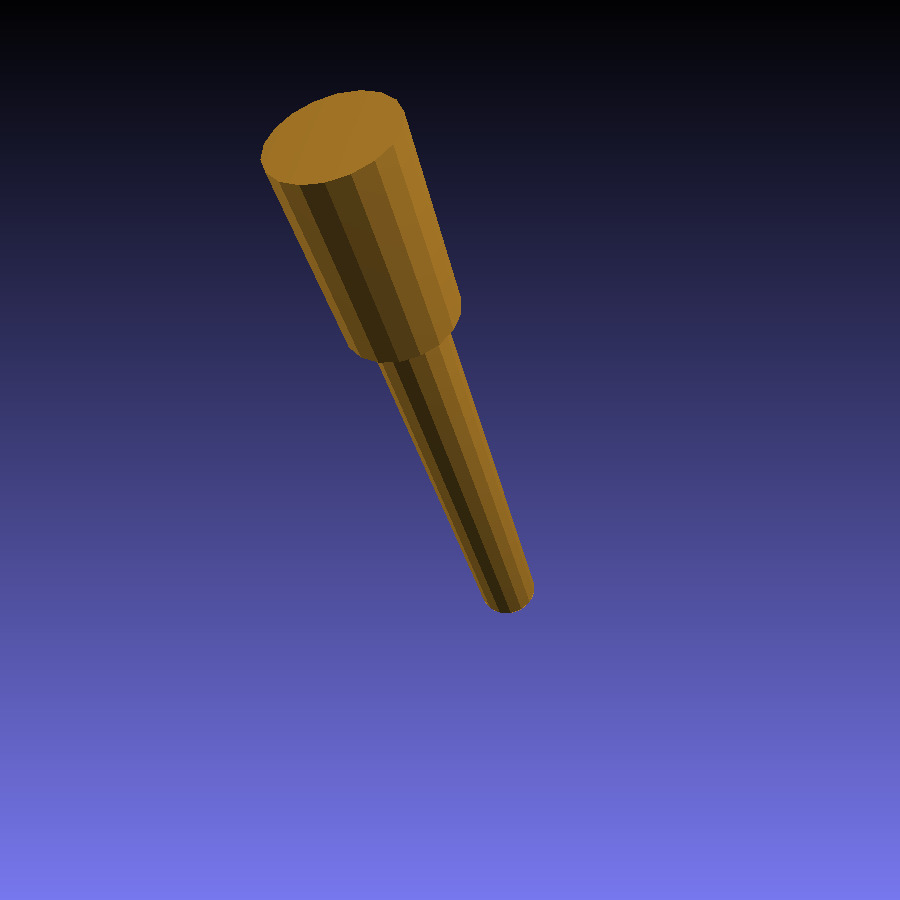cargo_g: (260, 87, 537, 615)
